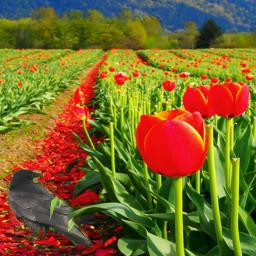Crow: (7, 169, 94, 247)
